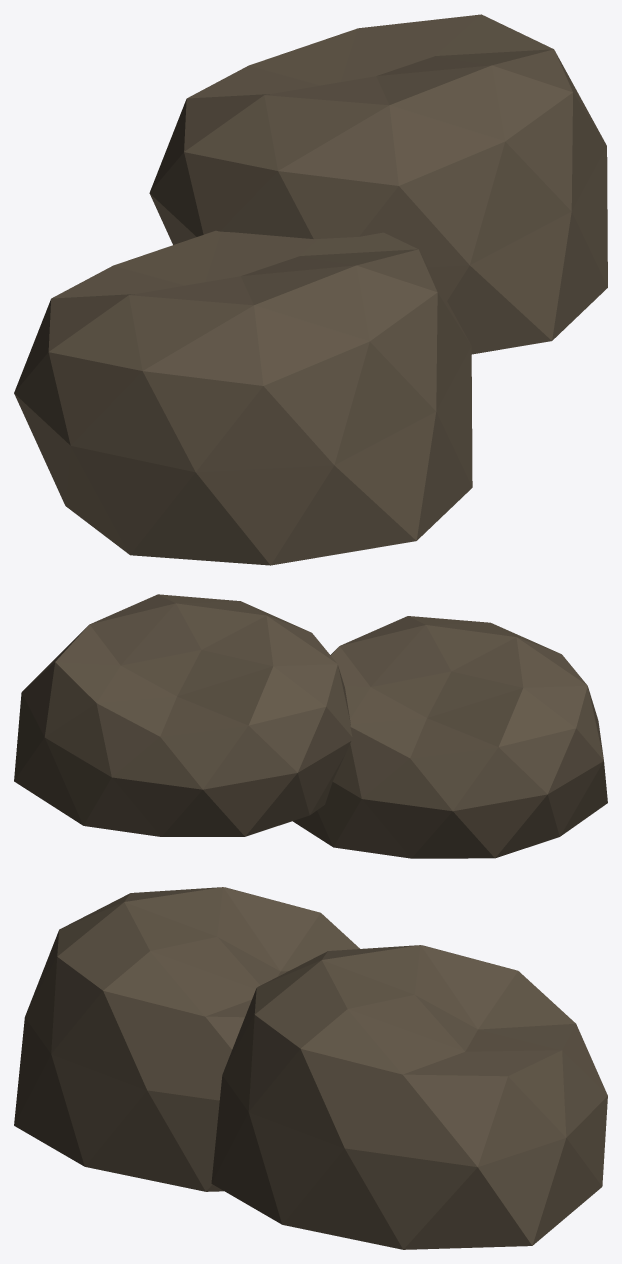
File: roca2.fbx
3 views of the same model, one above another, from view 1: azimuth 30°, elevation 25°; view 2: azimuth 150°, elevation 25°; view 3: azimuth 270°, elevation 25° (orthographic). The views are drawn at different scales.
Visible parts, largest first — view 1: Icosphere.007, Icosphere.006; view 2: Icosphere.006, Icosphere.007; view 3: Icosphere.006, Icosphere.007.
Part boxes in pixels (box(x1,y1,x2,y2)): Icosphere.007: box(14, 230, 472, 565); Icosphere.006: box(149, 14, 607, 354); Icosphere.006: box(14, 594, 352, 836); Icosphere.007: box(293, 616, 607, 858); Icosphere.006: box(211, 945, 607, 1249); Icosphere.007: box(14, 887, 359, 1191).
Size of the model in its own units: 82.04 by 32.75 by 73.02.
